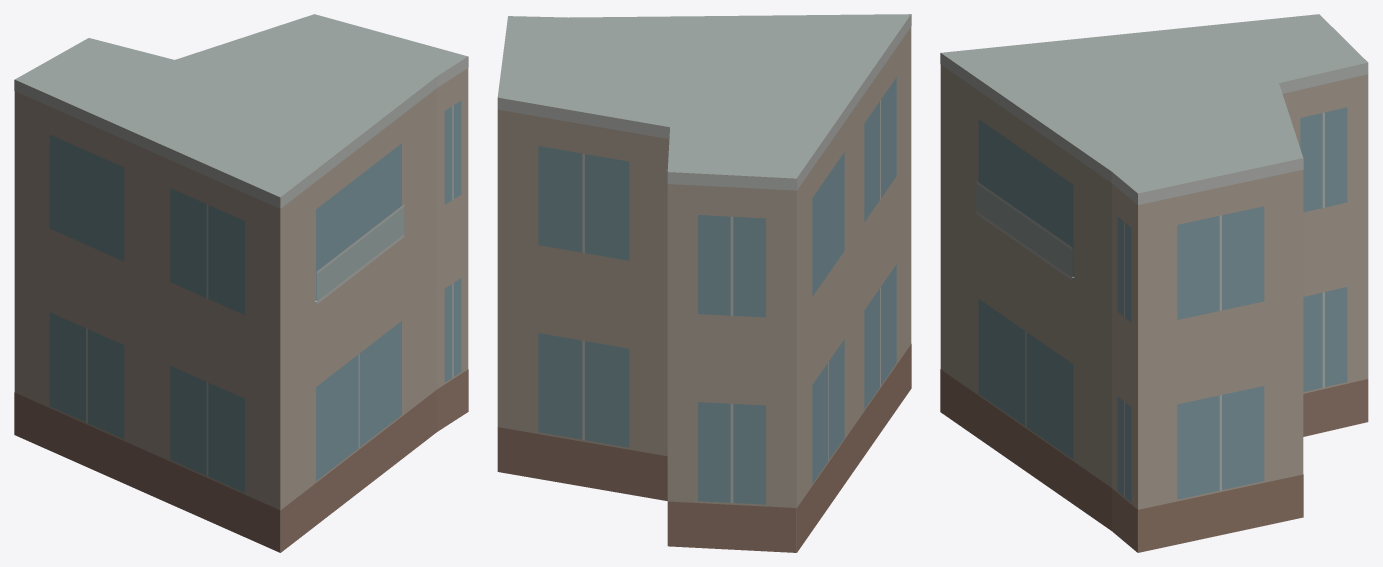
Rendered from survey-upis-32896180.glb.
The picture shows the model from 3 angles, left to right: view 1: azimuth 30°, elevation 25°; view 2: azimuth 150°, elevation 25°; view 3: azimuth 270°, elevation 25°; orthographic projection. The views are drawn at different scales.
Visible parts, largest first — view 1: survey-upis-32896180.tmp; view 2: survey-upis-32896180.tmp; view 3: survey-upis-32896180.tmp.
Boxes of the visible parts, x1,y1,x2,y2 form: survey-upis-32896180.tmp: [14, 14, 468, 552]; survey-upis-32896180.tmp: [497, 14, 911, 552]; survey-upis-32896180.tmp: [940, 14, 1368, 552].
Bounding box in the file's own units: 8.15 × 7.6 × 8.21.
